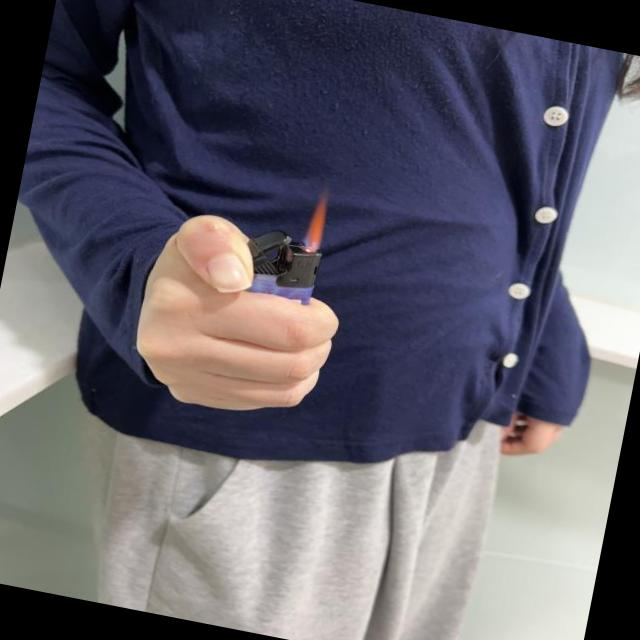Fire: (301, 192, 331, 252)
